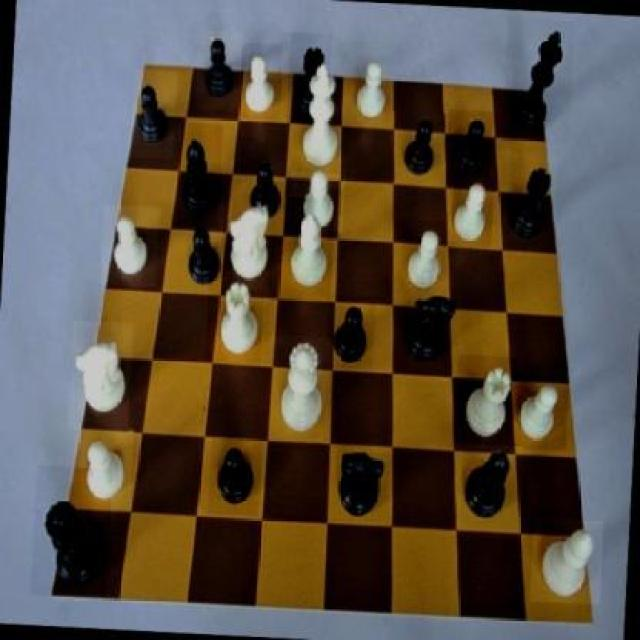bishop: (451, 443, 524, 539), (175, 123, 222, 229)
black-bishop: (503, 17, 577, 145)
black-king: (320, 437, 395, 535), (396, 292, 462, 376)
black-knight: (209, 438, 263, 518), (130, 69, 178, 159), (388, 110, 445, 184), (326, 294, 377, 370), (195, 31, 243, 111), (446, 110, 494, 188), (182, 216, 230, 292), (242, 152, 286, 232)
black-pawn: (31, 466, 114, 600)
black-queen: (502, 152, 558, 252), (286, 32, 332, 126)
black-rook: (530, 517, 604, 605), (278, 197, 336, 301)
white-bishop: (289, 56, 349, 174)
white-king: (68, 320, 134, 432), (222, 194, 278, 291)
white-knight: (100, 205, 160, 288), (75, 426, 133, 511), (400, 218, 451, 302), (511, 377, 568, 452), (289, 166, 346, 232), (238, 43, 282, 120), (450, 177, 494, 248), (351, 55, 391, 128)
white-pawn: (271, 336, 334, 442)
white-queen: (451, 354, 518, 450), (206, 276, 266, 366)
